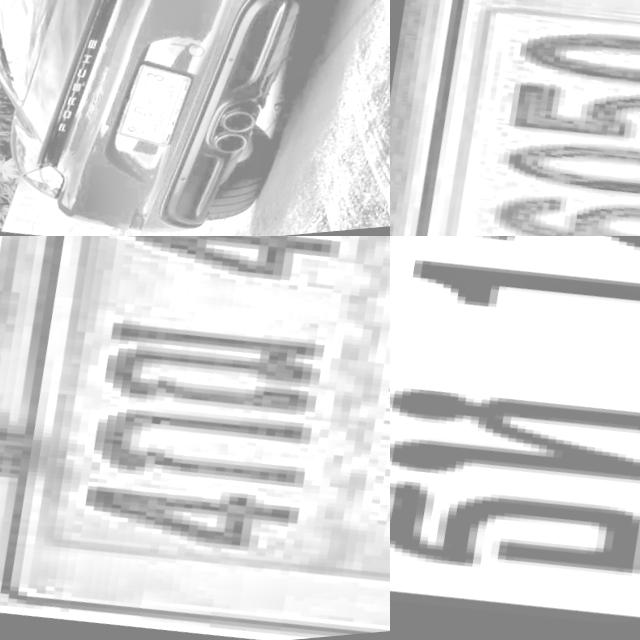license-plate: (0, 236, 390, 640), (390, 236, 640, 640), (390, 0, 640, 236), (103, 58, 194, 160)
